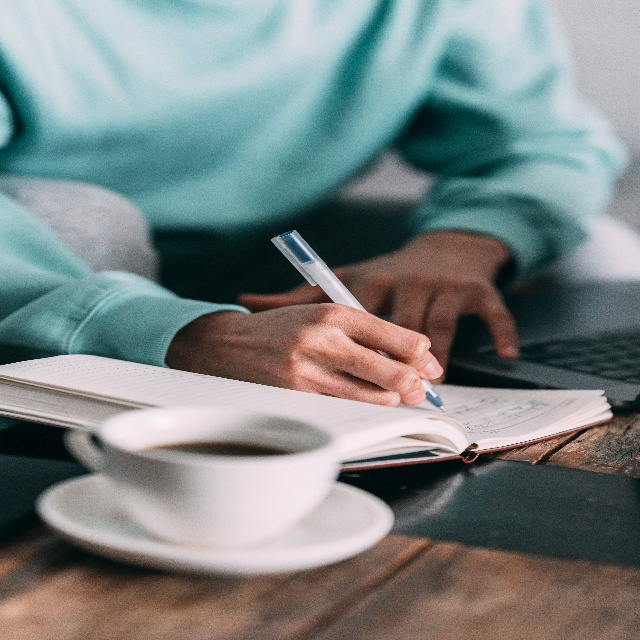Sin_guantes: (237, 230, 519, 385), (179, 299, 444, 405)
